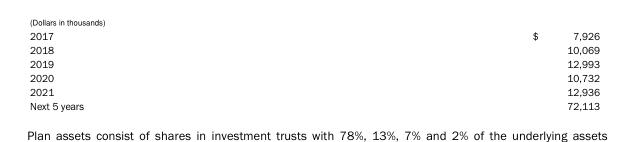table: (29, 28, 599, 111)
table column: (307, 28, 599, 111), (29, 28, 307, 111)
table row: (29, 41, 599, 56), (29, 56, 599, 70), (29, 70, 599, 84), (29, 84, 599, 98), (29, 28, 599, 41), (29, 98, 599, 111)
